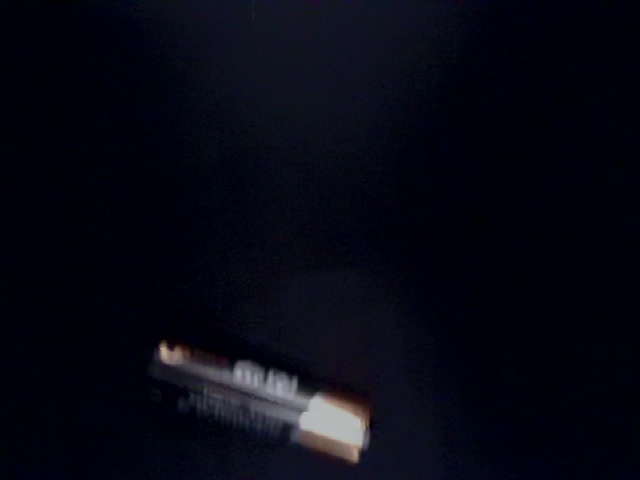YHLJ: (233, 75, 525, 173)
